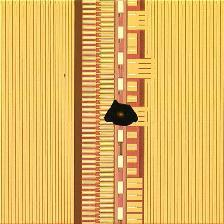PO CONTAMINATION: (62, 73, 141, 129)
